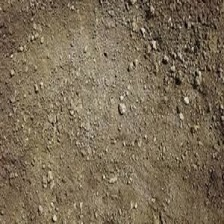sandy_soil: (9, 15, 218, 207)
